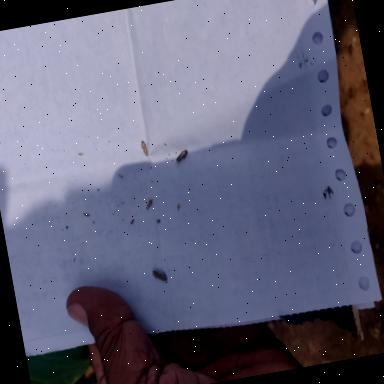pbw: (173, 150, 190, 168), (152, 268, 168, 284), (140, 140, 150, 157), (144, 198, 156, 210)
